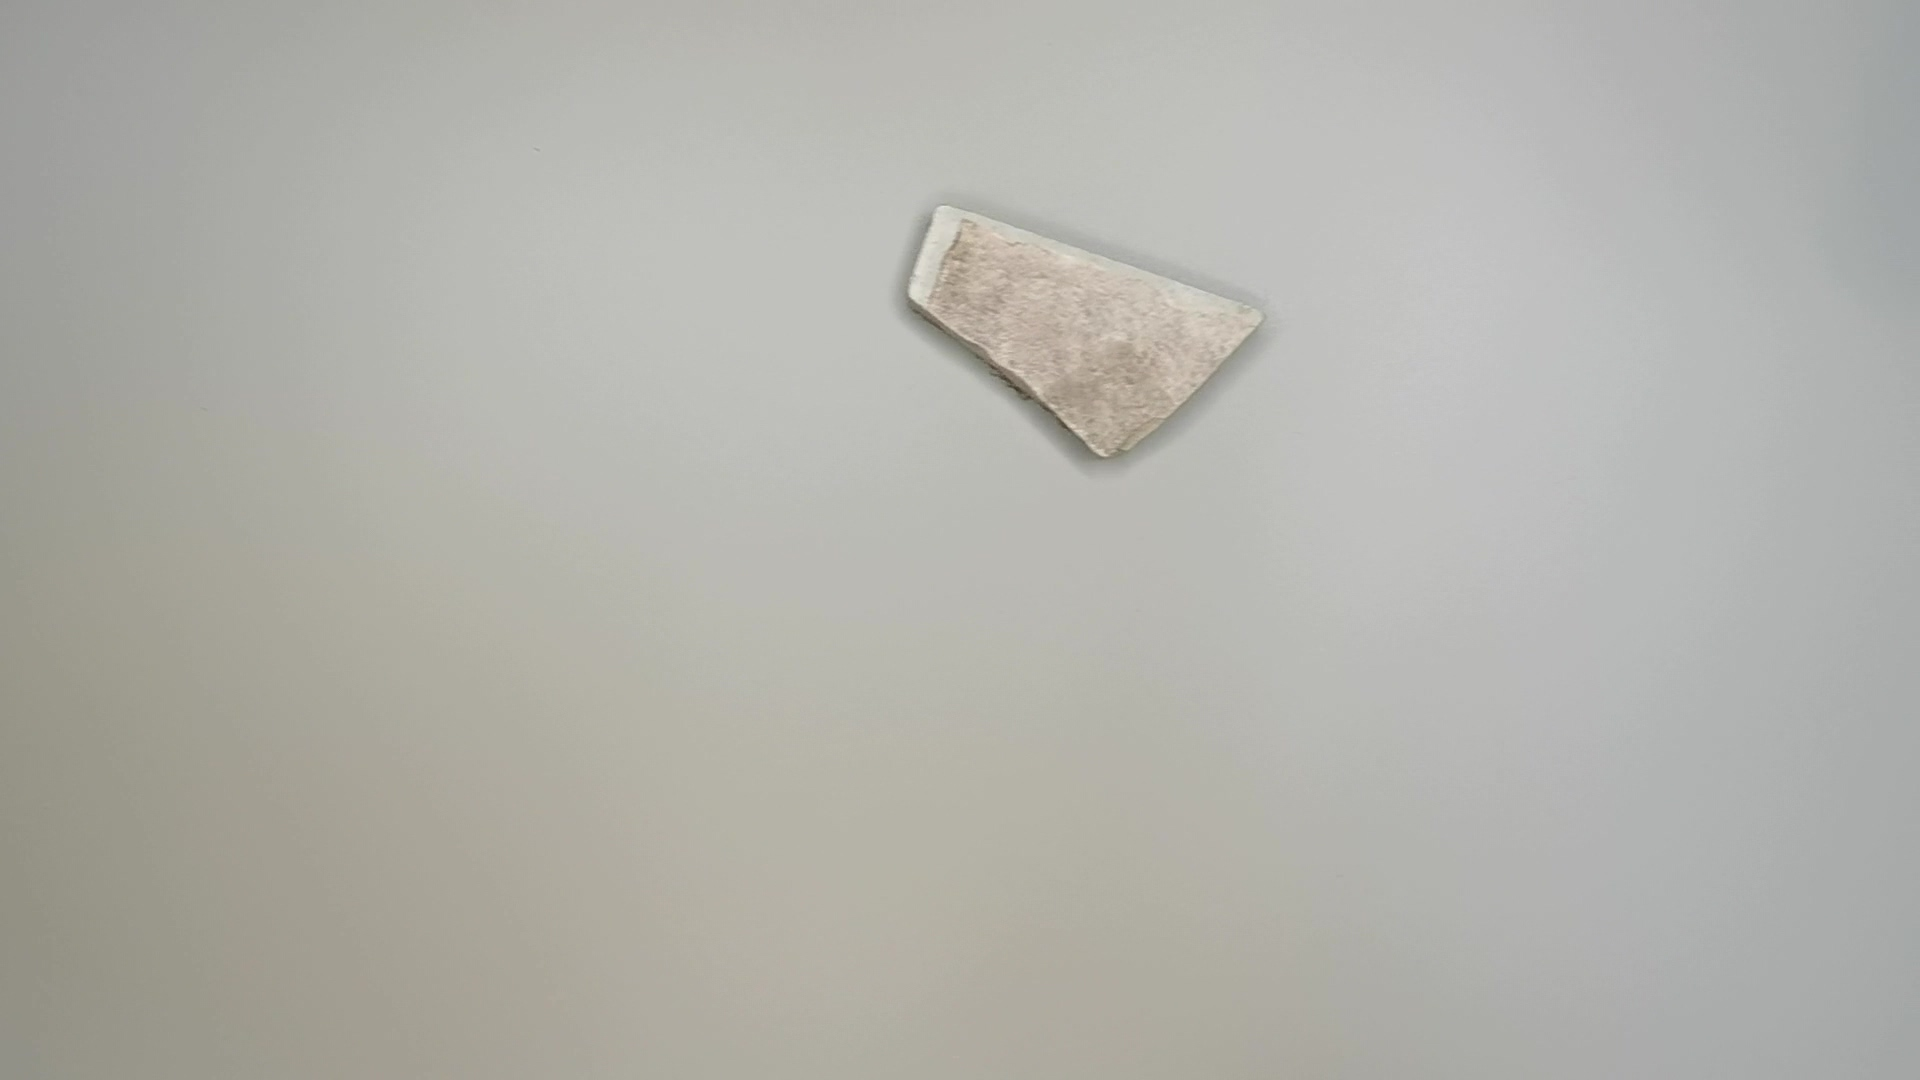ceramic: (903, 194, 1269, 471)
